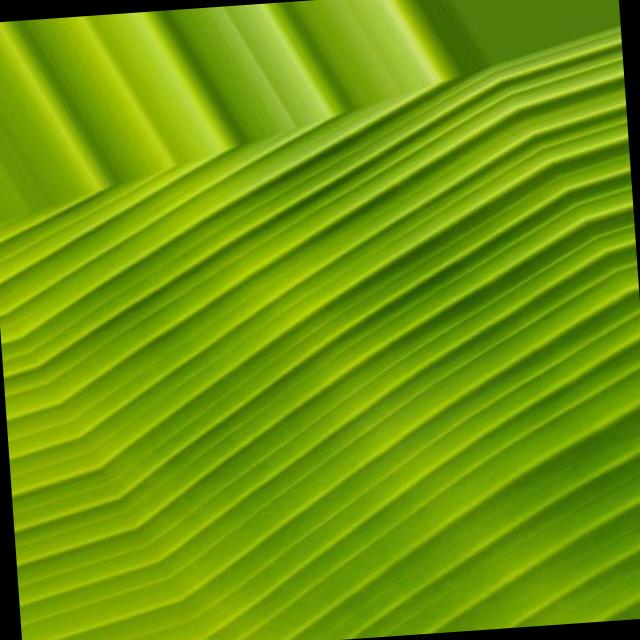Banana_Healthy: (134, 181, 546, 526)
